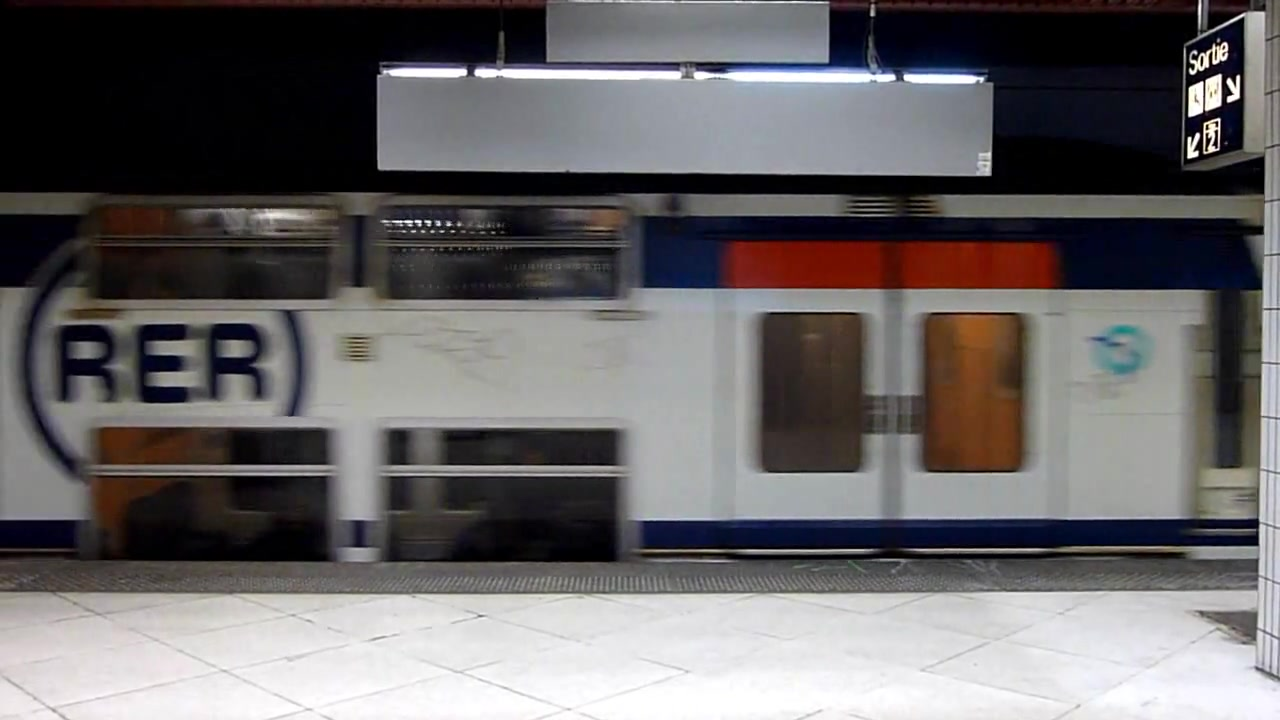train: (1, 171, 1263, 568)
